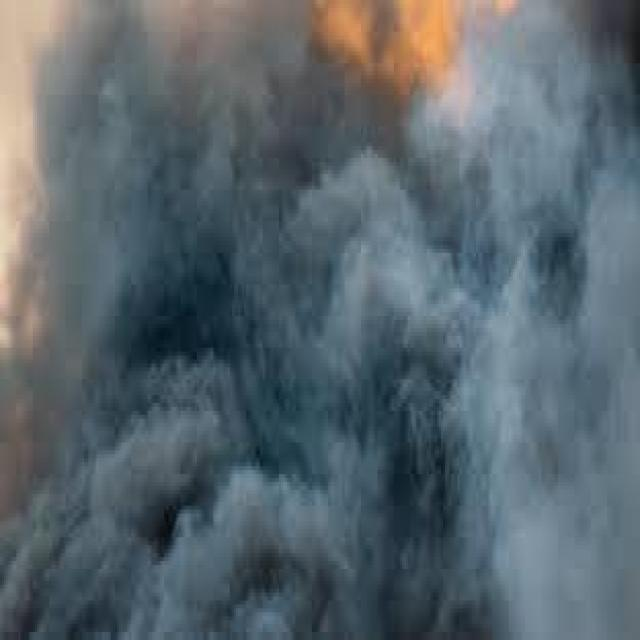Smoke: (1, 3, 640, 640)
